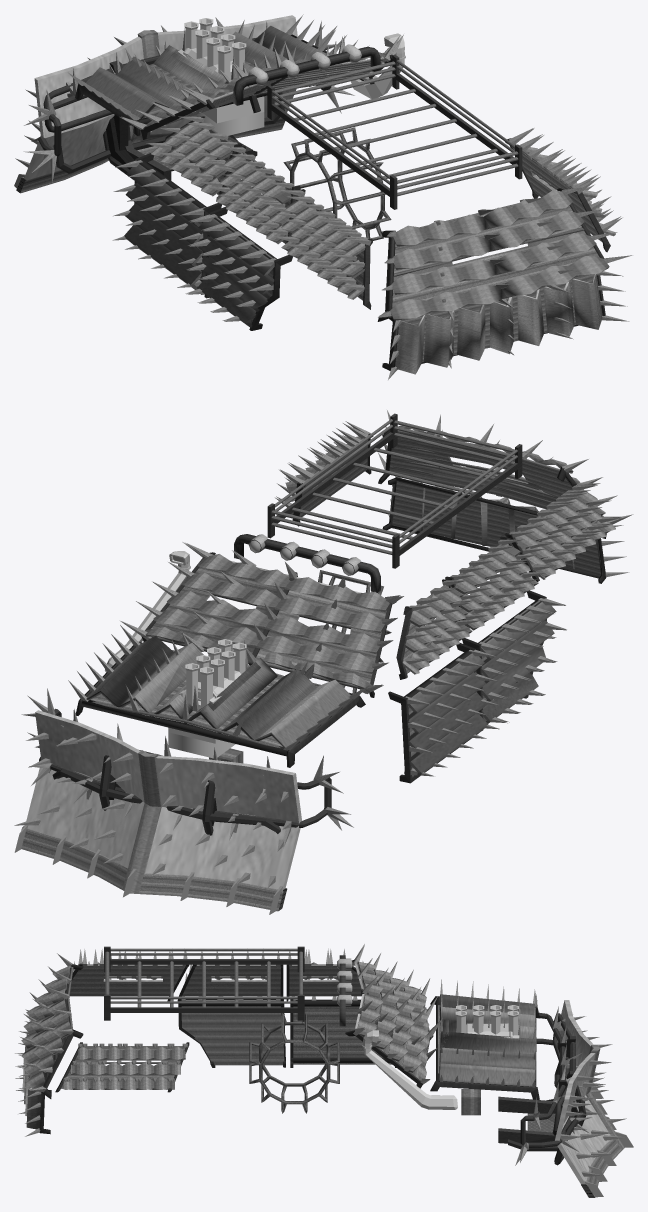
Rendered from SUVArmor.fbx.
3 views of the same model, one above another, from view 1: azimuth 30°, elevation 25°; view 2: azimuth 150°, elevation 25°; view 3: azimuth 270°, elevation 25° (orthographic). The views are drawn at different scales.
Parts seen in each view (by area): view 1: windowreinforcedrear, roofrack, plow, trunkreinforcedrear, windowheavyrear, doorfrontreinforcedleft, hoodreinforcedfront, windowheavyspikedrear, doorrearreinforcedleft, hoodreinforcedfrontscoop, airscooppiped, windowrearreinforcedleft (+26 smaller); view 2: plow, windowreinforcedfront, plow_spiked, roofrack, hoodreinforcedfront, hoodreinforcedfrontscoop, windowheavyrear, doorfrontreinforcedleft, windowheavyfront, trunkheavyrear, windowreinforcedrear, windowheavyspikedrear (+27 smaller); view 3: windowreinforcedrear, roofrack, hoodreinforcedfront, plow, windowheavyrear, doorrearheavyleft, windowreinforcedfront, hoodreinforcedfrontscoop, doorfrontheavyleft, chaintires, plow_spiked, windowrearheavyleft (+22 smaller).
Part boxes in pixels (x1=…): windowreinforcedrear: x1=281, y1=147, x2=615, y2=320; roofrack: x1=267, y1=54, x2=522, y2=209; plow: x1=14, y1=15, x2=297, y2=193; trunkreinforcedrear: x1=395, y1=274, x2=602, y2=374; windowheavyrear: x1=296, y1=138, x2=610, y2=321; doorfrontreinforcedleft: x1=124, y1=160, x2=206, y2=289; hoodreinforcedfront: x1=86, y1=26, x2=329, y2=124; windowheavyspikedrear: x1=274, y1=128, x2=632, y2=317; doorrearreinforcedleft: x1=197, y1=214, x2=277, y2=327; hoodreinforcedfrontscoop: x1=87, y1=26, x2=314, y2=126; airscooppiped: x1=177, y1=18, x2=264, y2=135; windowrearreinforcedleft: x1=216, y1=153, x2=291, y2=244; plow: x1=14, y1=710, x2=301, y2=914; windowreinforcedfront: x1=142, y1=554, x2=389, y2=691; plow_spiked: x1=14, y1=712, x2=298, y2=888; roofrack: x1=267, y1=413, x2=522, y2=568; hoodreinforcedfront: x1=86, y1=639, x2=350, y2=755; hoodreinforcedfrontscoop: x1=81, y1=636, x2=357, y2=755; windowheavyrear: x1=292, y1=429, x2=606, y2=581; doorfrontreinforcedleft: x1=401, y1=650, x2=488, y2=781; windowheavyfront: x1=145, y1=552, x2=394, y2=697; trunkheavyrear: x1=382, y1=477, x2=606, y2=583; windowreinforcedrear: x1=283, y1=425, x2=615, y2=579; windowheavyspikedrear: x1=274, y1=410, x2=633, y2=570; windowreinforcedrear: x1=21, y1=962, x2=185, y2=1089; roofrack: x1=104, y1=946, x2=304, y2=1020; hoodreinforcedfront: x1=436, y1=994, x2=535, y2=1086; plow: x1=552, y1=1000, x2=633, y2=1197; windowheavyrear: x1=41, y1=962, x2=189, y2=1098; doorrearheavyleft: x1=178, y1=999, x2=285, y2=1067; windowreinforcedfront: x1=357, y1=961, x2=429, y2=1081; hoodreinforcedfrontscoop: x1=436, y1=994, x2=536, y2=1086; doorfrontheavyleft: x1=290, y1=999, x2=396, y2=1067; chaintires: x1=249, y1=1012, x2=339, y2=1113; plow_spiked: x1=552, y1=1016, x2=626, y2=1177; windowrearheavyleft: x1=177, y1=964, x2=283, y2=1001.
Bounding box in the file's own units: 301 × 197 × 625.
